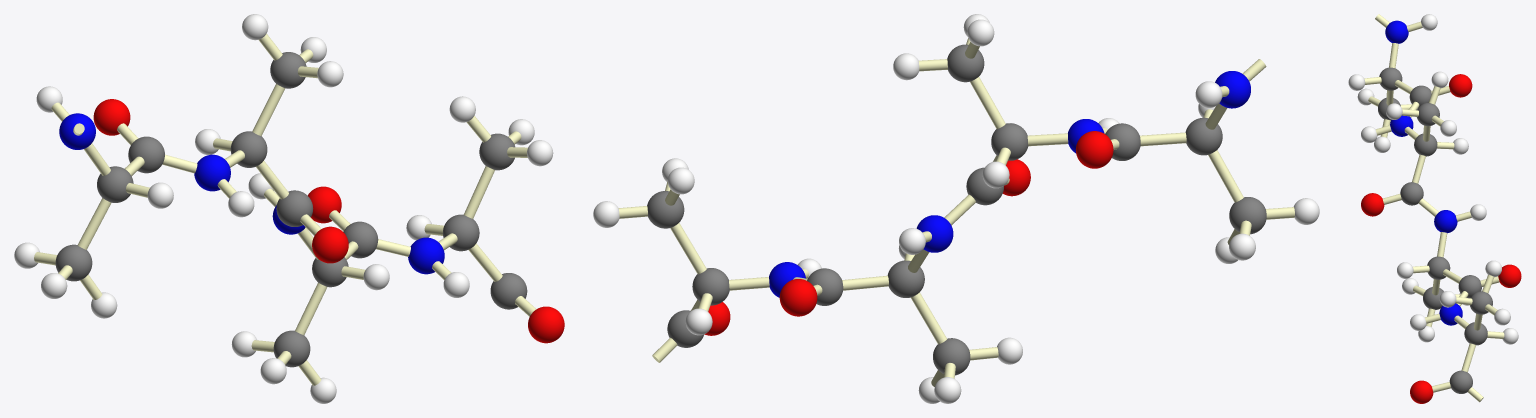
Rendered from sheet.gltf.
3 views of the same model, side by side, from view 1: azimuth 30°, elevation 25°; view 2: azimuth 150°, elevation 25°; view 3: azimuth 270°, elevation 25° (orthographic). The views are drawn at different scales.
Parts seen in each view (by area): view 1: ?????????34, ?????????14, ?????????4, ?????????11, ?????????31, ?????????1, ?????????13, ?????????33, ?????????37, ?????????17, ?????????2, ?????????12 (+27 smaller); view 2: ?????????24, ?????????4, ?????????2, ?????????22, ?????????32, ?????????37, ?????????17, ?????????12, ?????????27, ?????????7, ?????????21, ?????????1 (+6 smaller); view 3: ?????????4, ?????????34, ?????????14, ?????????1, ?????????13, ?????????33, ?????????21, ?????????24, ?????????22, ?????????2, ?????????32, ?????????37 (+30 smaller).
Part boxes in pixels (left/top/right/bottom): ?????????34: left=528, top=306, right=564, bottom=343; ?????????14: left=312, top=226, right=348, bottom=263; ?????????4: left=93, top=99, right=130, bottom=135; ?????????11: left=194, top=154, right=230, bottom=191; ?????????31: left=408, top=237, right=444, bottom=274; ?????????1: left=59, top=113, right=95, bottom=149; ?????????13: left=276, top=190, right=313, bottom=226; ?????????33: left=490, top=273, right=527, bottom=309; ?????????37: left=479, top=133, right=515, bottom=170; ?????????17: left=270, top=52, right=306, bottom=88; ?????????2: left=97, top=166, right=133, bottom=202; ?????????12: left=230, top=131, right=267, bottom=167; ?????????24: left=779, top=279, right=817, bottom=316; ?????????4: left=1076, top=131, right=1113, bottom=168; ?????????2: left=1185, top=117, right=1222, bottom=155; ?????????22: left=887, top=260, right=924, bottom=297; ?????????32: left=692, top=268, right=729, bottom=305; ?????????37: left=647, top=191, right=684, bottom=228; ?????????17: left=947, top=44, right=984, bottom=82; ?????????12: left=991, top=123, right=1028, bottom=160; ?????????27: left=933, top=338, right=970, bottom=375; ?????????7: left=1229, top=197, right=1266, bottom=234; ?????????21: left=916, top=215, right=953, bottom=252; ?????????1: left=1215, top=71, right=1250, bottom=108; ?????????4: left=1449, top=74, right=1472, bottom=97; ?????????34: left=1410, top=380, right=1433, bottom=403; ?????????14: left=1361, top=193, right=1384, bottom=216; ?????????1: left=1385, top=20, right=1408, bottom=43; ?????????13: left=1400, top=182, right=1423, bottom=205; ?????????33: left=1449, top=370, right=1472, bottom=393; ?????????21: left=1434, top=210, right=1457, bottom=233; ?????????24: left=1498, top=264, right=1521, bottom=287; ?????????22: left=1427, top=256, right=1450, bottom=279; ?????????2: left=1379, top=67, right=1402, bottom=90; ?????????32: left=1464, top=322, right=1487, bottom=345; ?????????37: left=1470, top=291, right=1492, bottom=314.
Size of the model in its own units: 131 by 82.8 by 51.7.
